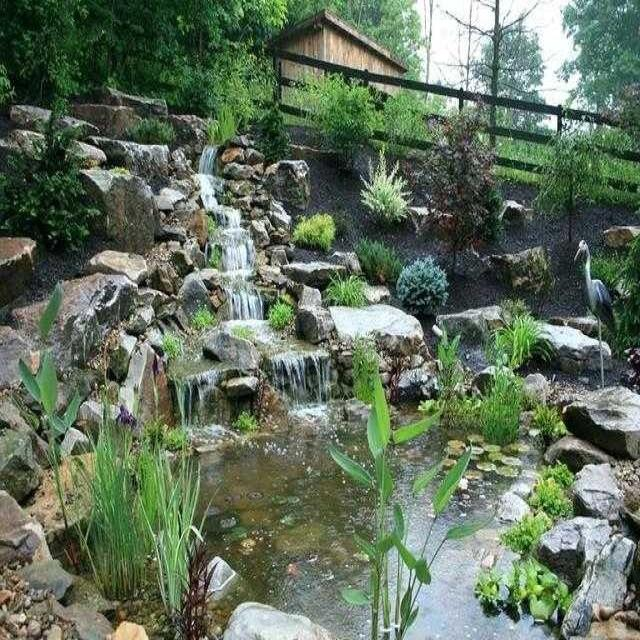Ponds: (1, 89, 640, 640)
